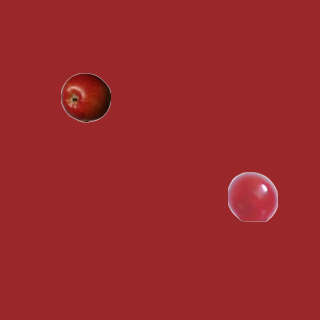Apple Braeburn: (60, 72, 110, 122)
Redcurrant: (227, 171, 277, 221)
